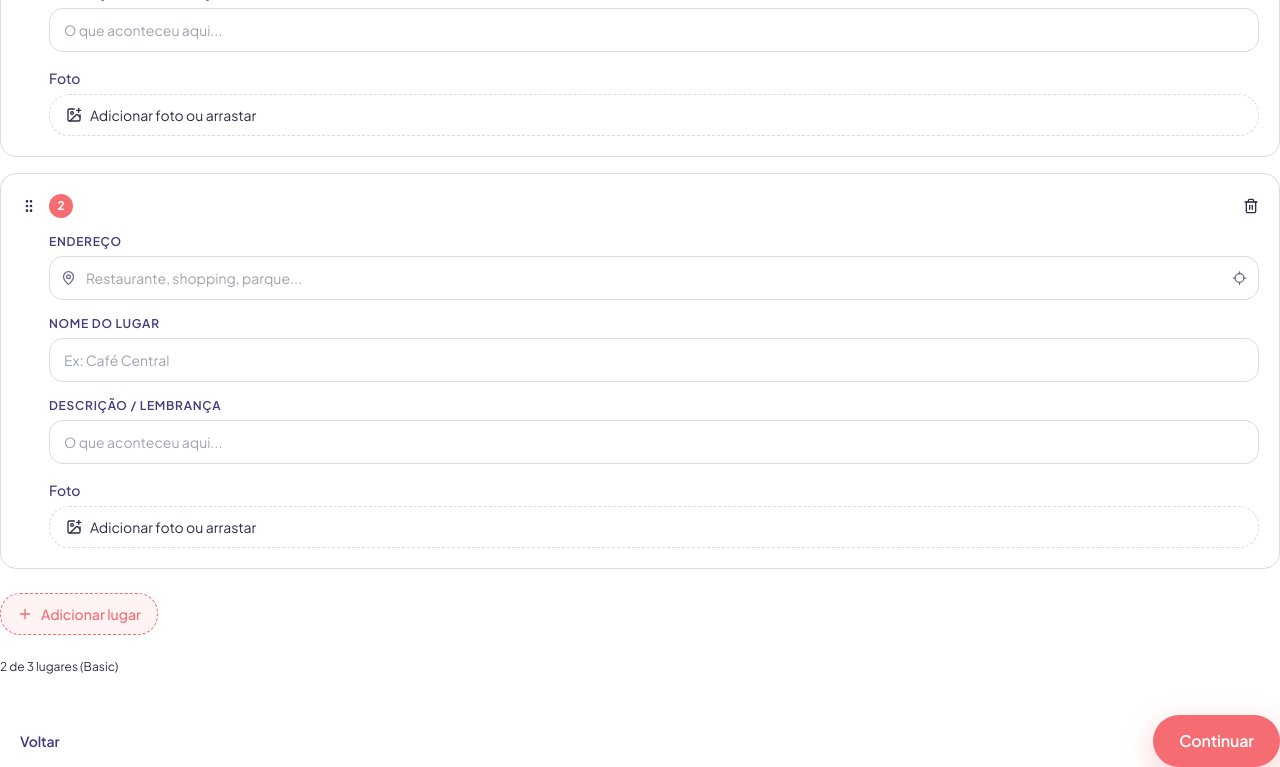
Scenario: Step2Localizacoes › should show upgrade modal when exceeding Basic plan limit
(page scrolled)
Step 1. Click the button "Adicionar lugar" → click(79, 614), box left=0, top=593, right=158, bottom=635
(page scrolled)
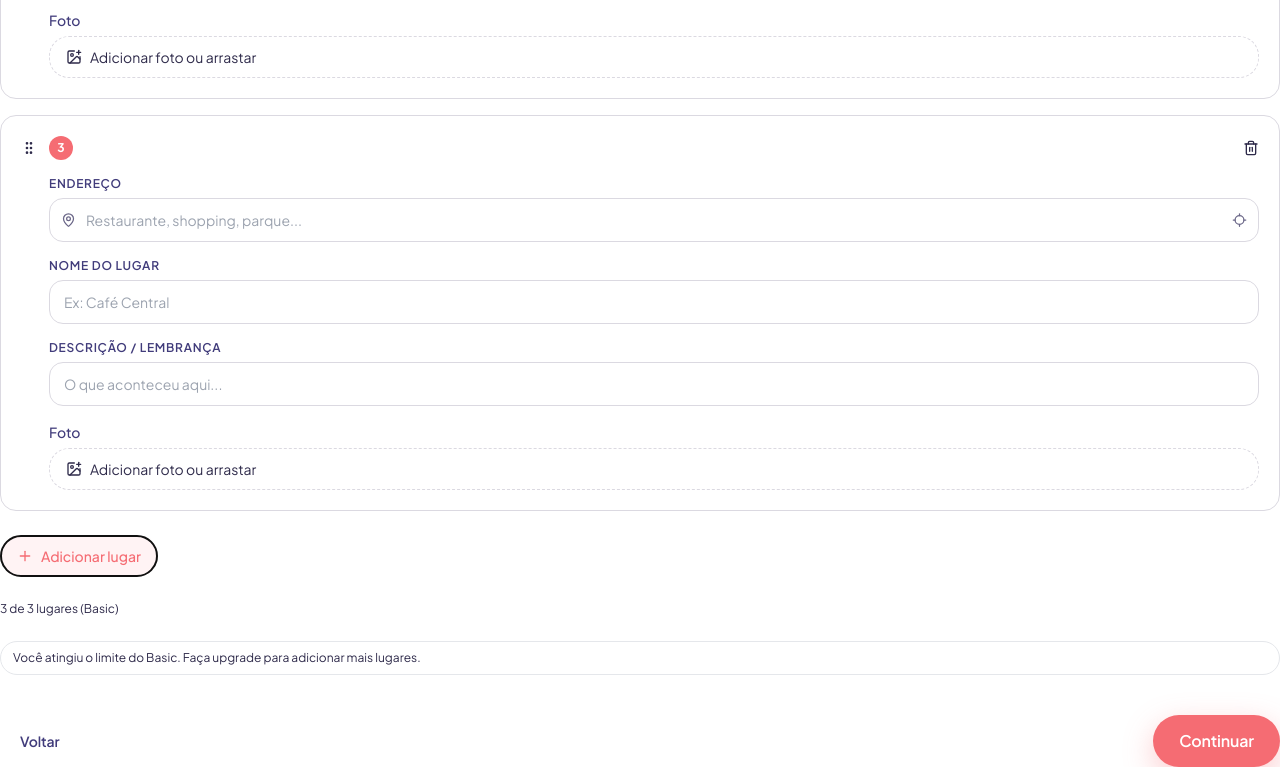
Step 2. Click the button "Adicionar lugar" → click(79, 556), box left=0, top=535, right=158, bottom=577
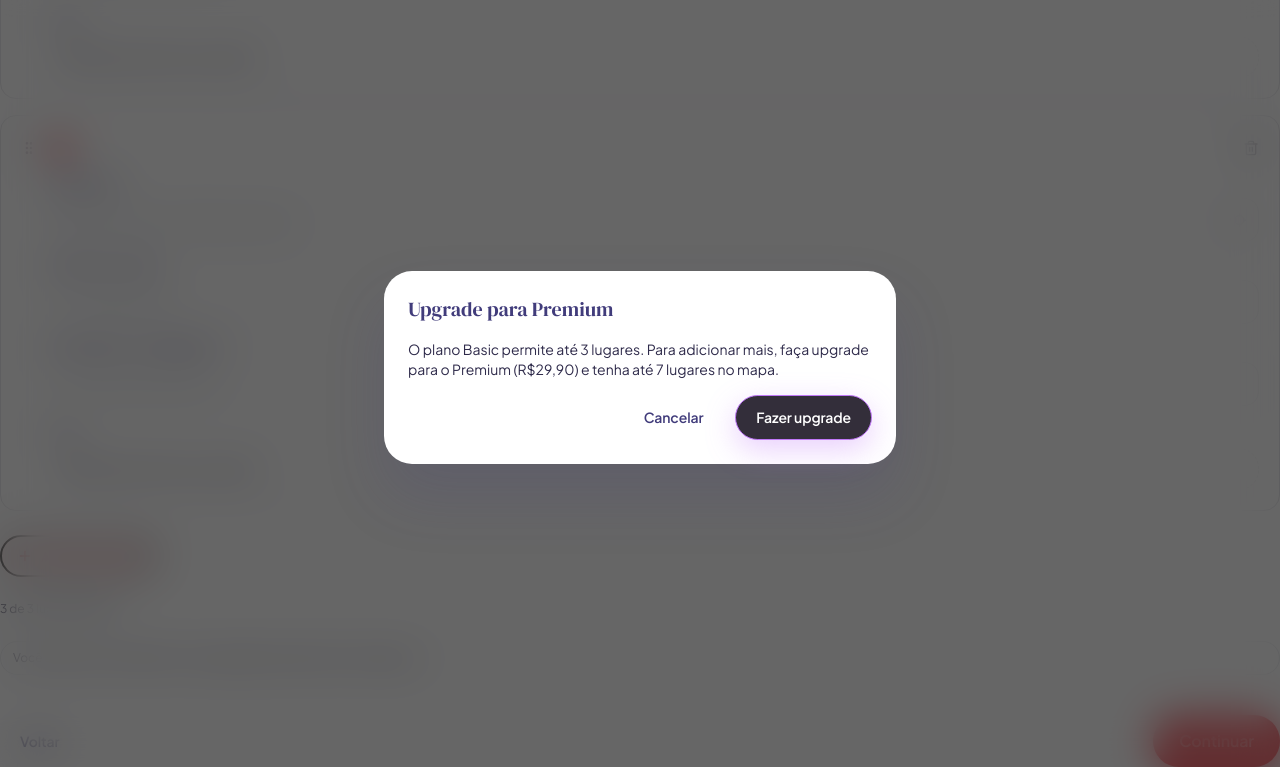
Expected: the heading "Upgrade para Premium" is shown, left=408, top=294, right=614, bottom=322
